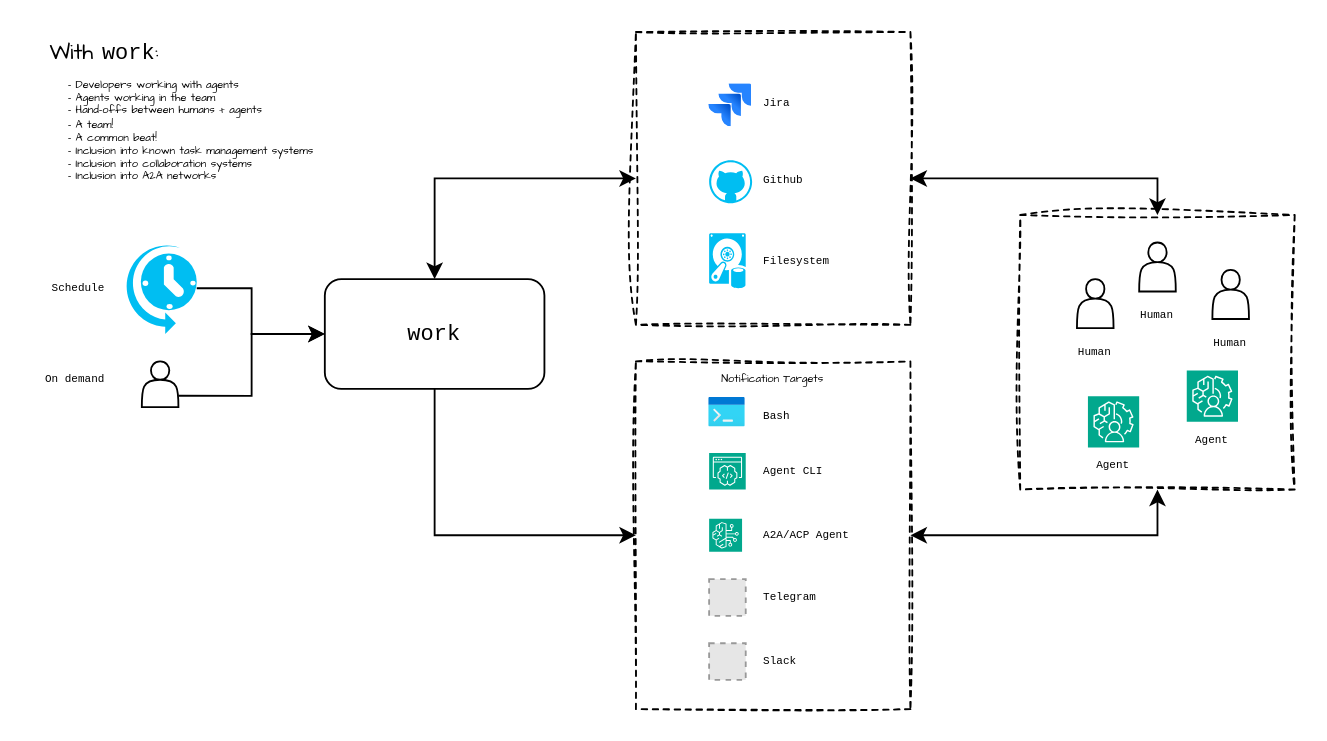
Image size: 1327x741. Some labels were removed from this diagram. Grey dashed boxes stand in for pictures. The shapes that lost their labels are listed below. From the top down, each one's box as (x1, y1, x2, y2) in pixels, then its label:
(634, 30, 910, 325): Task Management
(1018, 213, 1295, 490): Development team
